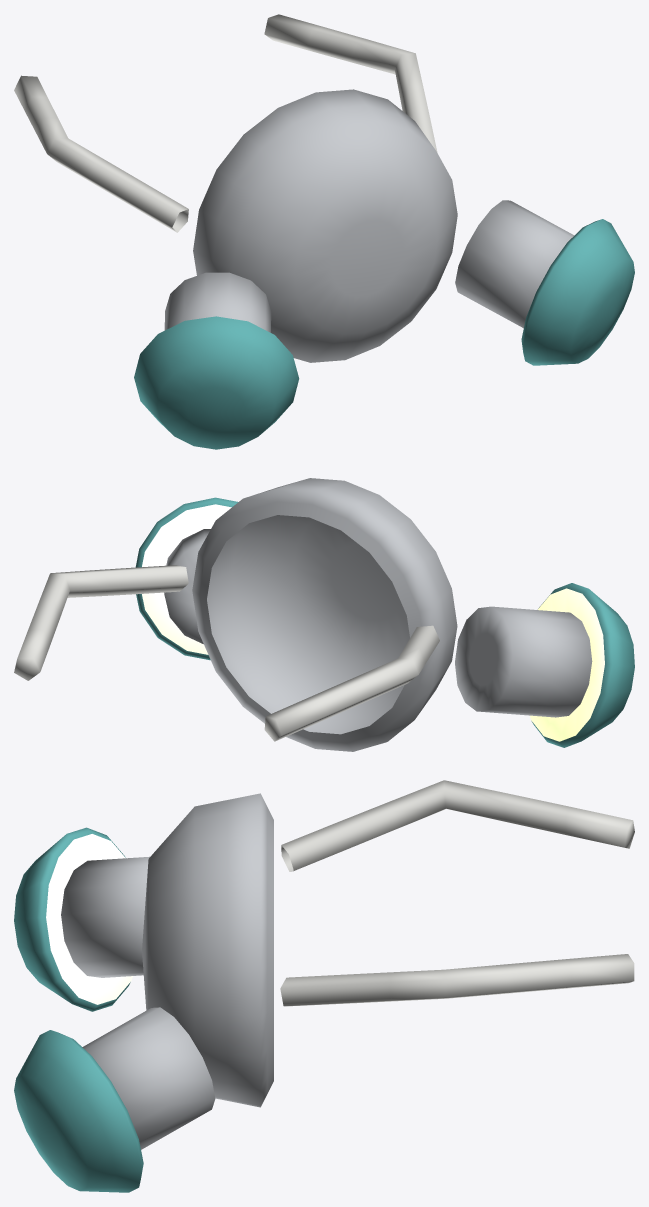
The model's file is spore_mask.glb.
3 renders of one model, top to bottom at view 1: azimuth 30°, elevation 25°; view 2: azimuth 150°, elevation 25°; view 3: azimuth 270°, elevation 25°, orthographic. The views are drawn at different scales.
Visible parts, largest first — view 1: SporeMask; view 2: SporeMask; view 3: SporeMask.
Part boxes in pixels (x1=…): SporeMask: x1=14, y1=14, x2=634, y2=449; SporeMask: x1=14, y1=478, x2=634, y2=751; SporeMask: x1=14, y1=780, x2=634, y2=1192.
Bounding box in the file's own units: 0.464 × 0.2415 × 0.4709.
